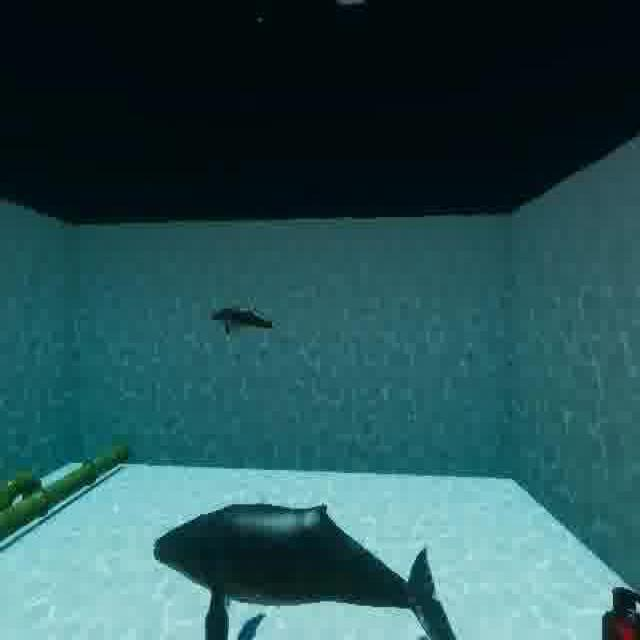Cylinder: (595, 570, 640, 640)
Pipe: (0, 422, 158, 532)
Whale: (133, 487, 468, 640), (201, 290, 281, 341)
